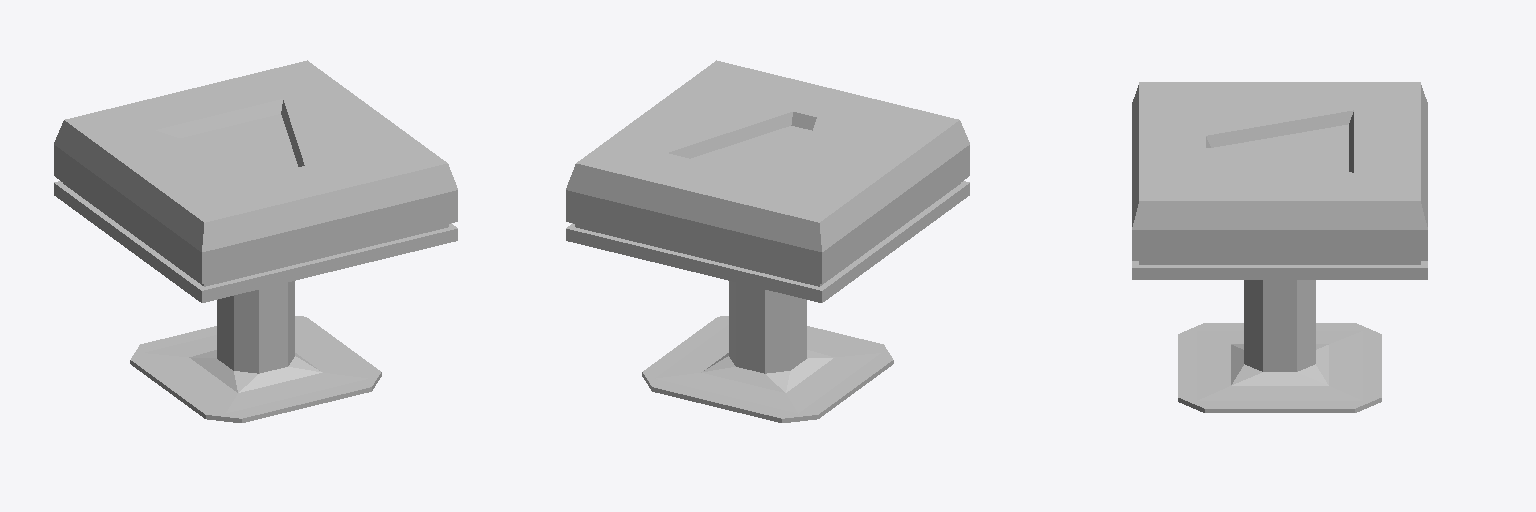
The model's file is strange_table.obj.
3 renders of one model, left to right at view 1: azimuth 30°, elevation 25°; view 2: azimuth 150°, elevation 25°; view 3: azimuth 270°, elevation 25°, orthographic.
Visible parts, largest first — view 1: strange_table; view 2: strange_table; view 3: strange_table.
Part boxes in pixels (x1,y1,x2,y2): strange_table: (54, 60, 457, 422); strange_table: (566, 60, 969, 422); strange_table: (1132, 82, 1427, 412).
Bounding box in the file's own units: 1.05 × 0.8958 × 1.05.